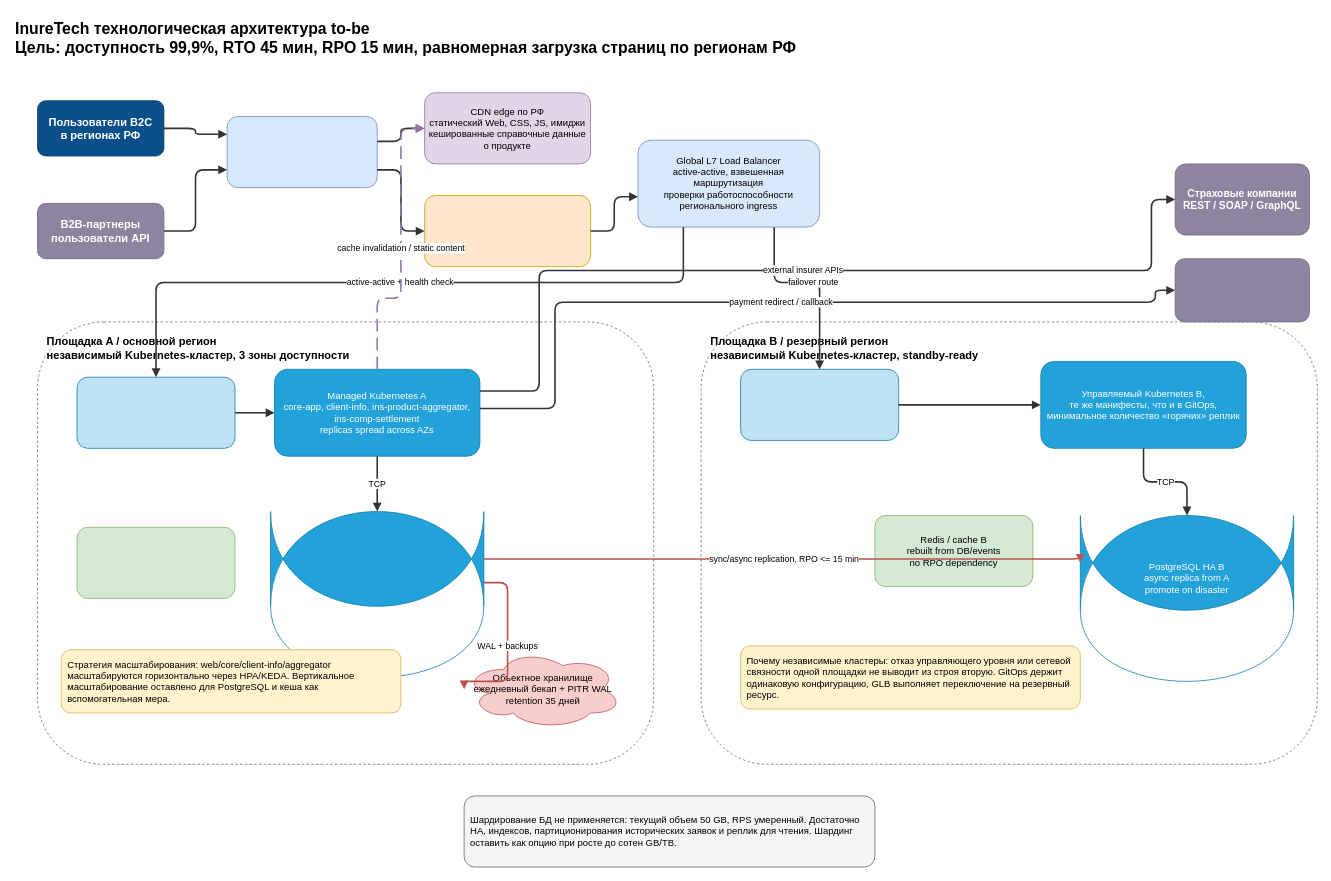
This 1331x881 diagram has some shape labels left out. The shapes that lost their labels are listed below. From the top down, each one's centre as x and y in pixels, then its label:
At pixel 301 152: "GeoDNS / Anycast DNS active-active routing health check HTTPS /healthz".
At pixel 507 231: "WAF + API Gateway TLS termination partner auth, rate limiting, quotas".
At pixel 1241 290: "Платежный сервис redirect / callback".
At pixel 155 412: "Ingress Controller A readiness/liveness probes HPA + PodDisruptionBudget".
At pixel 819 404: "Ingress Controller B health endpoint /healthz traffic after GLB failover".
At pixel 155 562: "Redis / in-memory кеш католог продукта, сессии, ключи идемпотентности".
At pixel 377 558: "PostgreSQL HA A Patroni primary + sync replicas WAL archive every 5 min".
